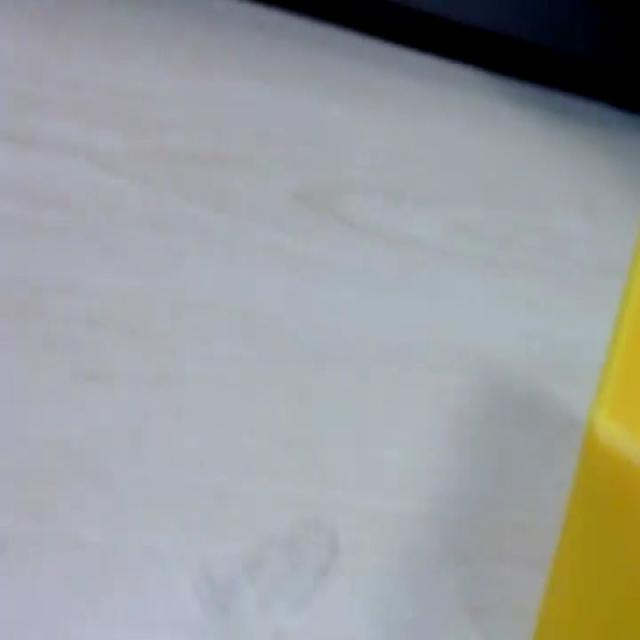yellow_block: (531, 230, 639, 638)
